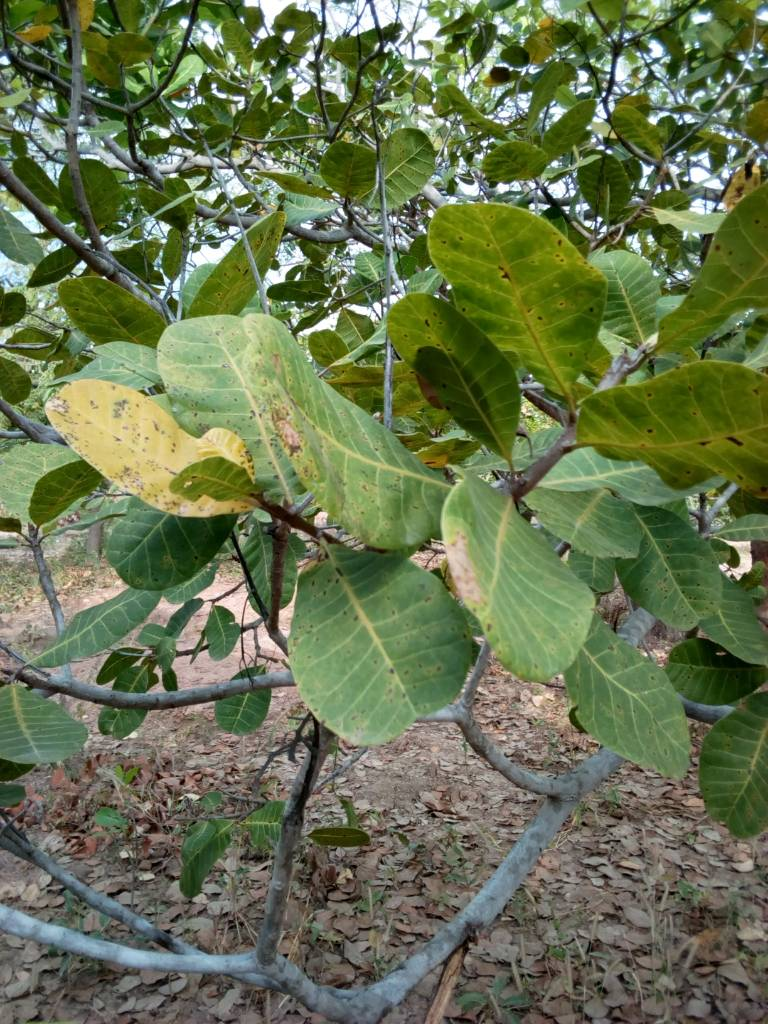Anthracnose: (46, 314, 436, 544), (286, 541, 471, 747), (427, 199, 615, 374)
